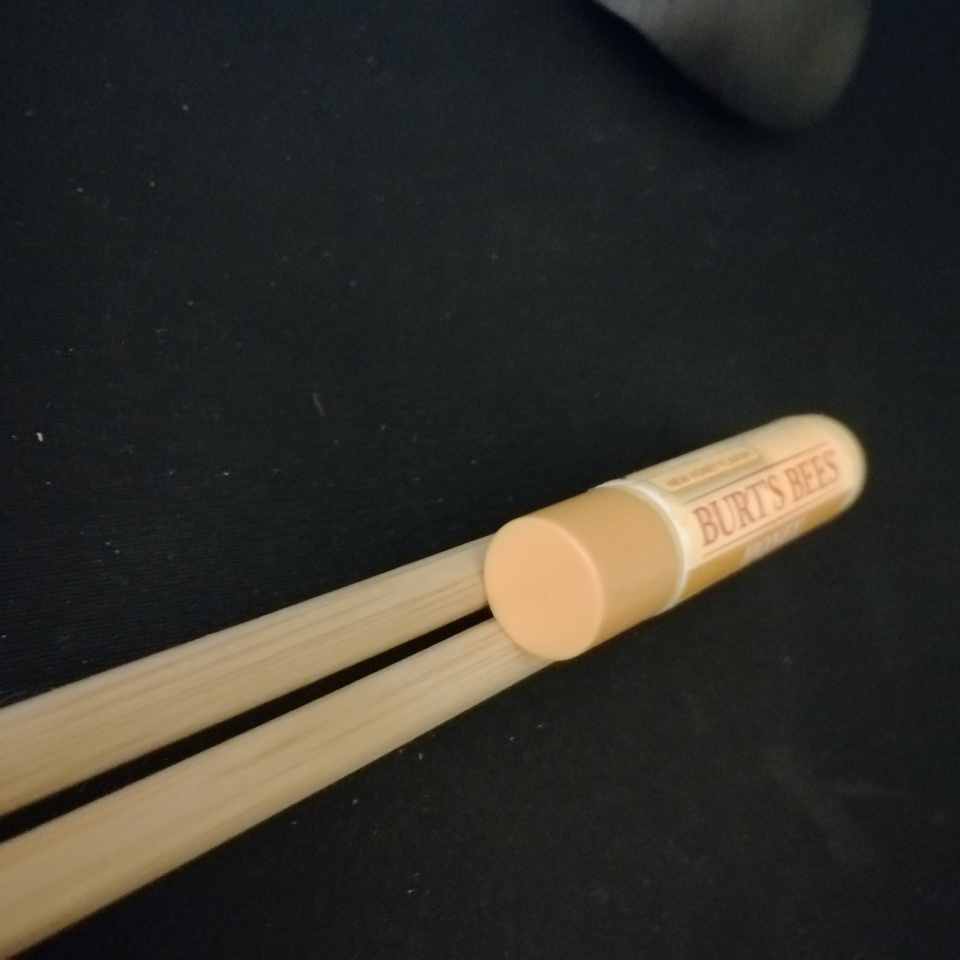chapstick: (485, 410, 869, 664)
